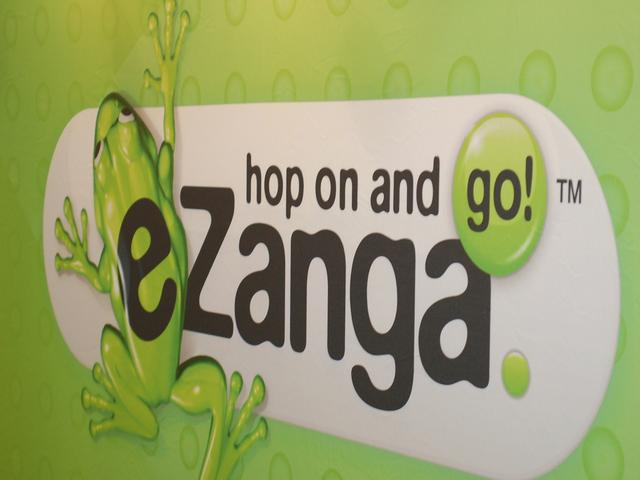frog: (13, 17, 293, 472)
